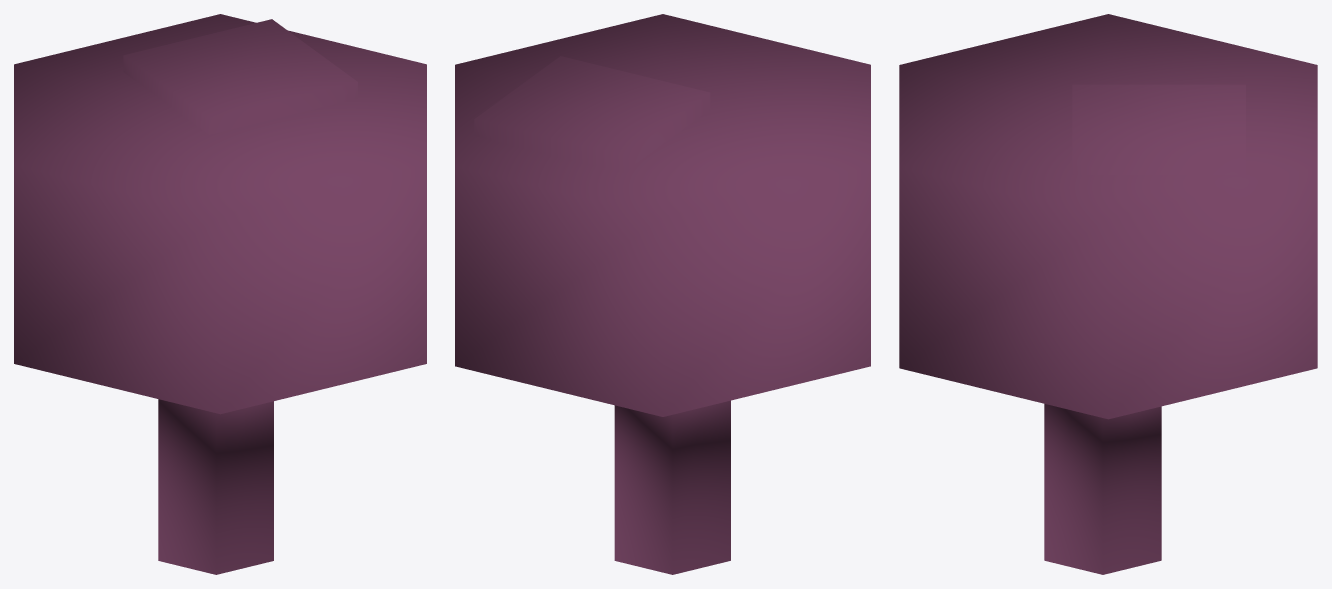
The model's file is ps2_jrpg_snowfield_snow_pine_conifer.obj.
3 views of the same model, side by side, from view 1: azimuth 30°, elevation 25°; view 2: azimuth 150°, elevation 25°; view 3: azimuth 270°, elevation 25° (orthographic).
Bounding box in the file's own units: 2 × 2.06 × 1.73.
